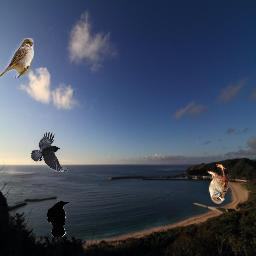Crow: (31, 132, 68, 172), (47, 201, 69, 237)
Sparrow: (0, 38, 34, 78), (207, 164, 234, 204)
